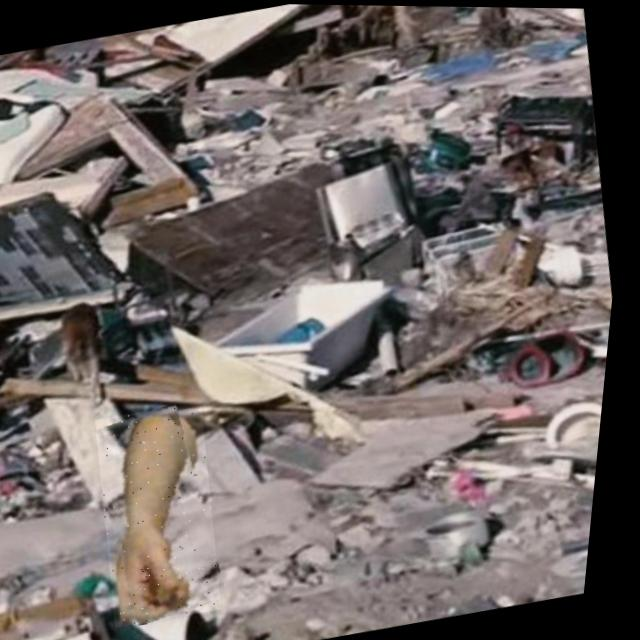Person in Rubble: (88, 400, 249, 628)
